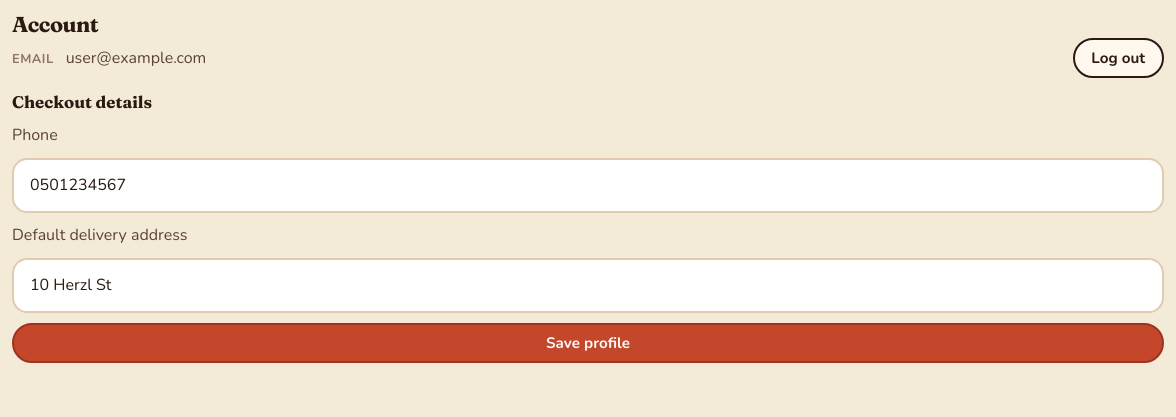
it: AccountPanel › logs the user out without requiring location or pizza state
Expected: the text "user@example.com" is shown, left=66, top=46, right=206, bottom=71
Click the button "Log out".
click(1118, 58)  # box left=1072, top=38, right=1164, bottom=78
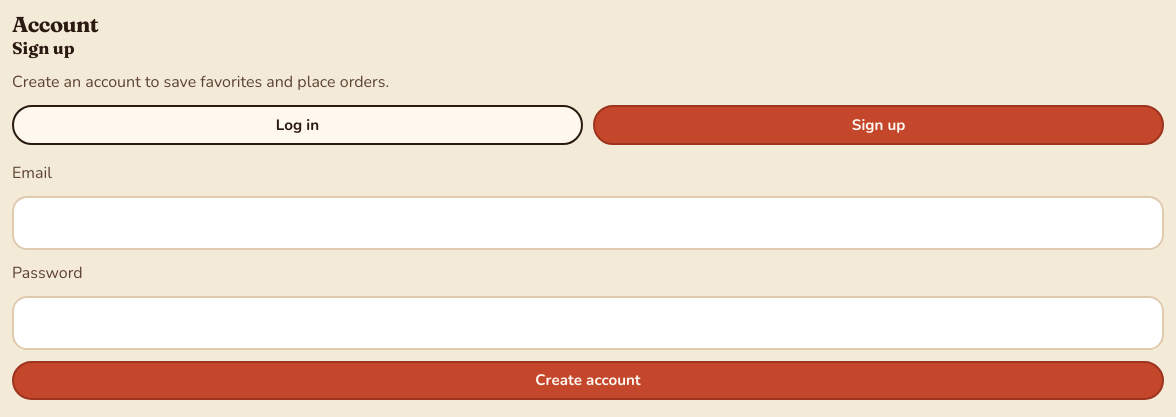
Now the field labelled "Email" is shown, box left=12, top=196, right=1164, bottom=250
